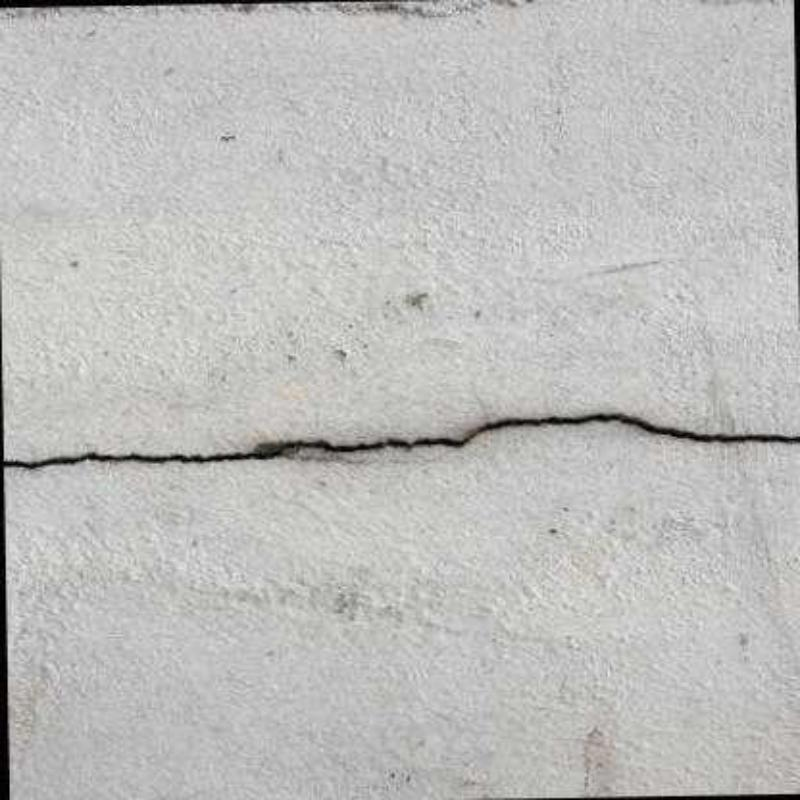crack: (1, 411, 800, 469)
